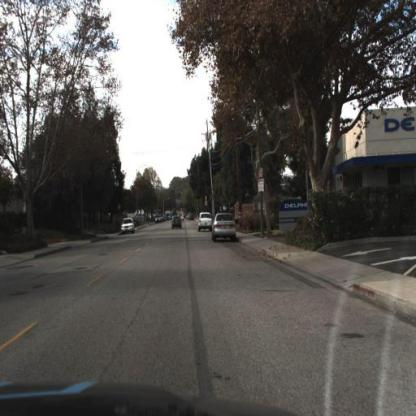car: (210, 212, 238, 246), (210, 210, 238, 243), (195, 211, 213, 236), (168, 213, 186, 236), (120, 217, 137, 240), (123, 218, 137, 236)
